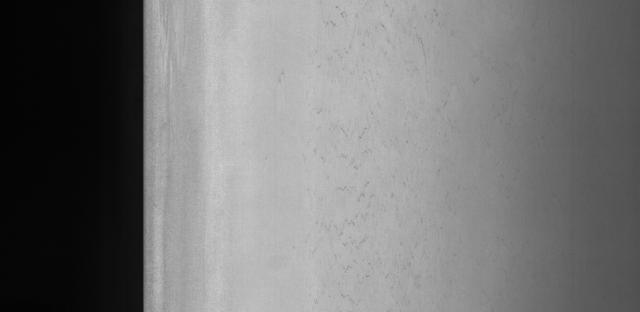silk_spot: (291, 0, 470, 298)
